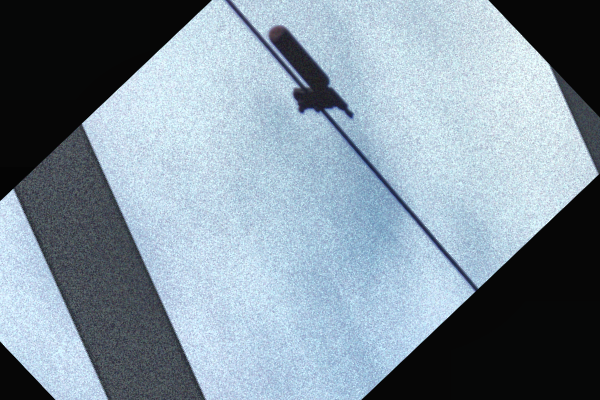damper_defect: (262, 20, 358, 126)
